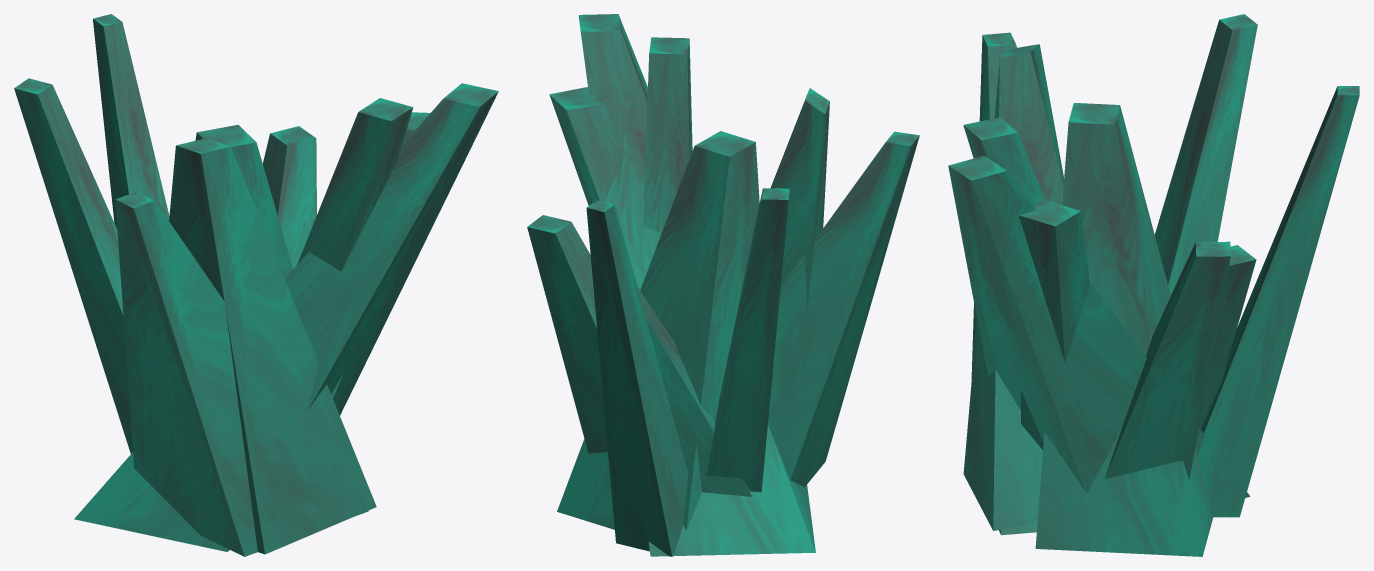
Rendered from crystal_3.fbx.
The picture shows the model from 3 angles, left to right: view 1: azimuth 30°, elevation 25°; view 2: azimuth 150°, elevation 25°; view 3: azimuth 270°, elevation 25°; orthographic projection. The views are drawn at different scales.
Visible parts, largest first — view 1: Cube.005; view 2: Cube.005; view 3: Cube.005.
Boxes of the visible parts, x1,y1,x2,y2 form: Cube.005: (14,14,498,556); Cube.005: (527,14,919,556); Cube.005: (948,14,1359,556).
Size of the model in its own units: 1.39 by 1.5 by 1.33.
